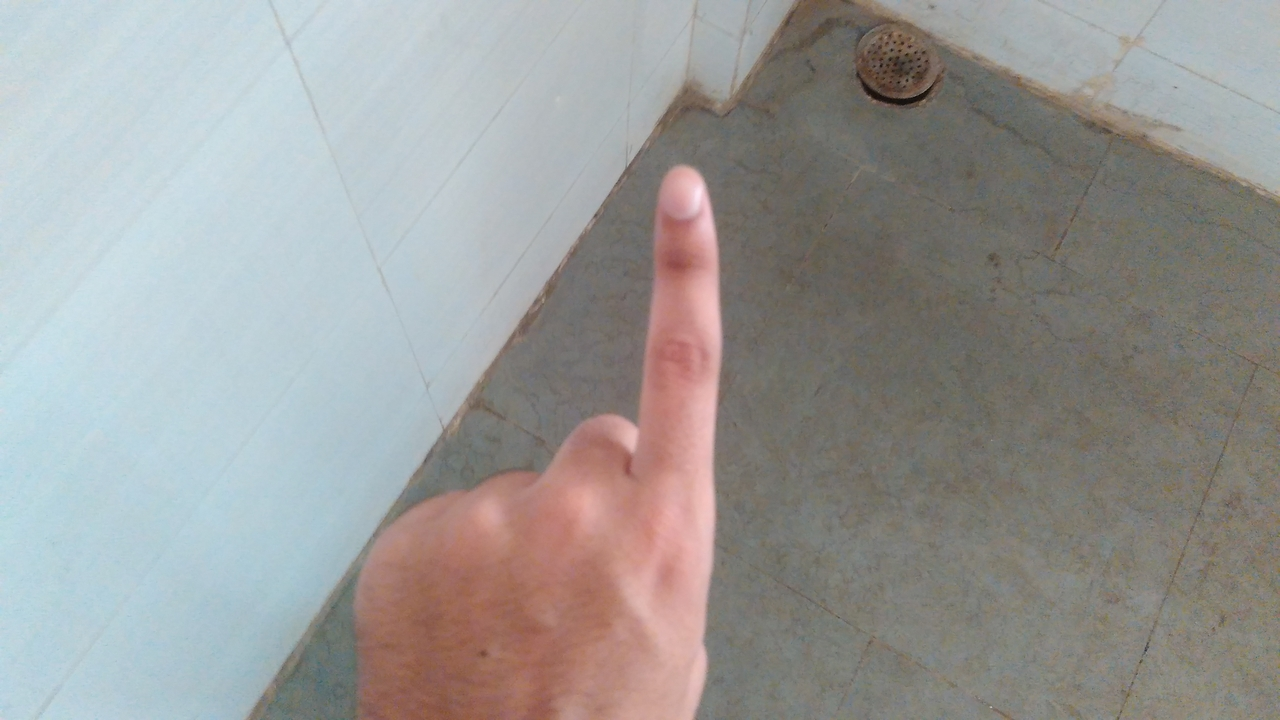fingertip: (652, 160, 720, 226)
